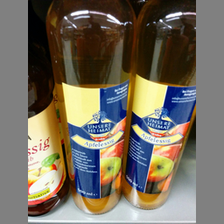vinegar: (46, 1, 130, 214), (124, 1, 196, 210)
